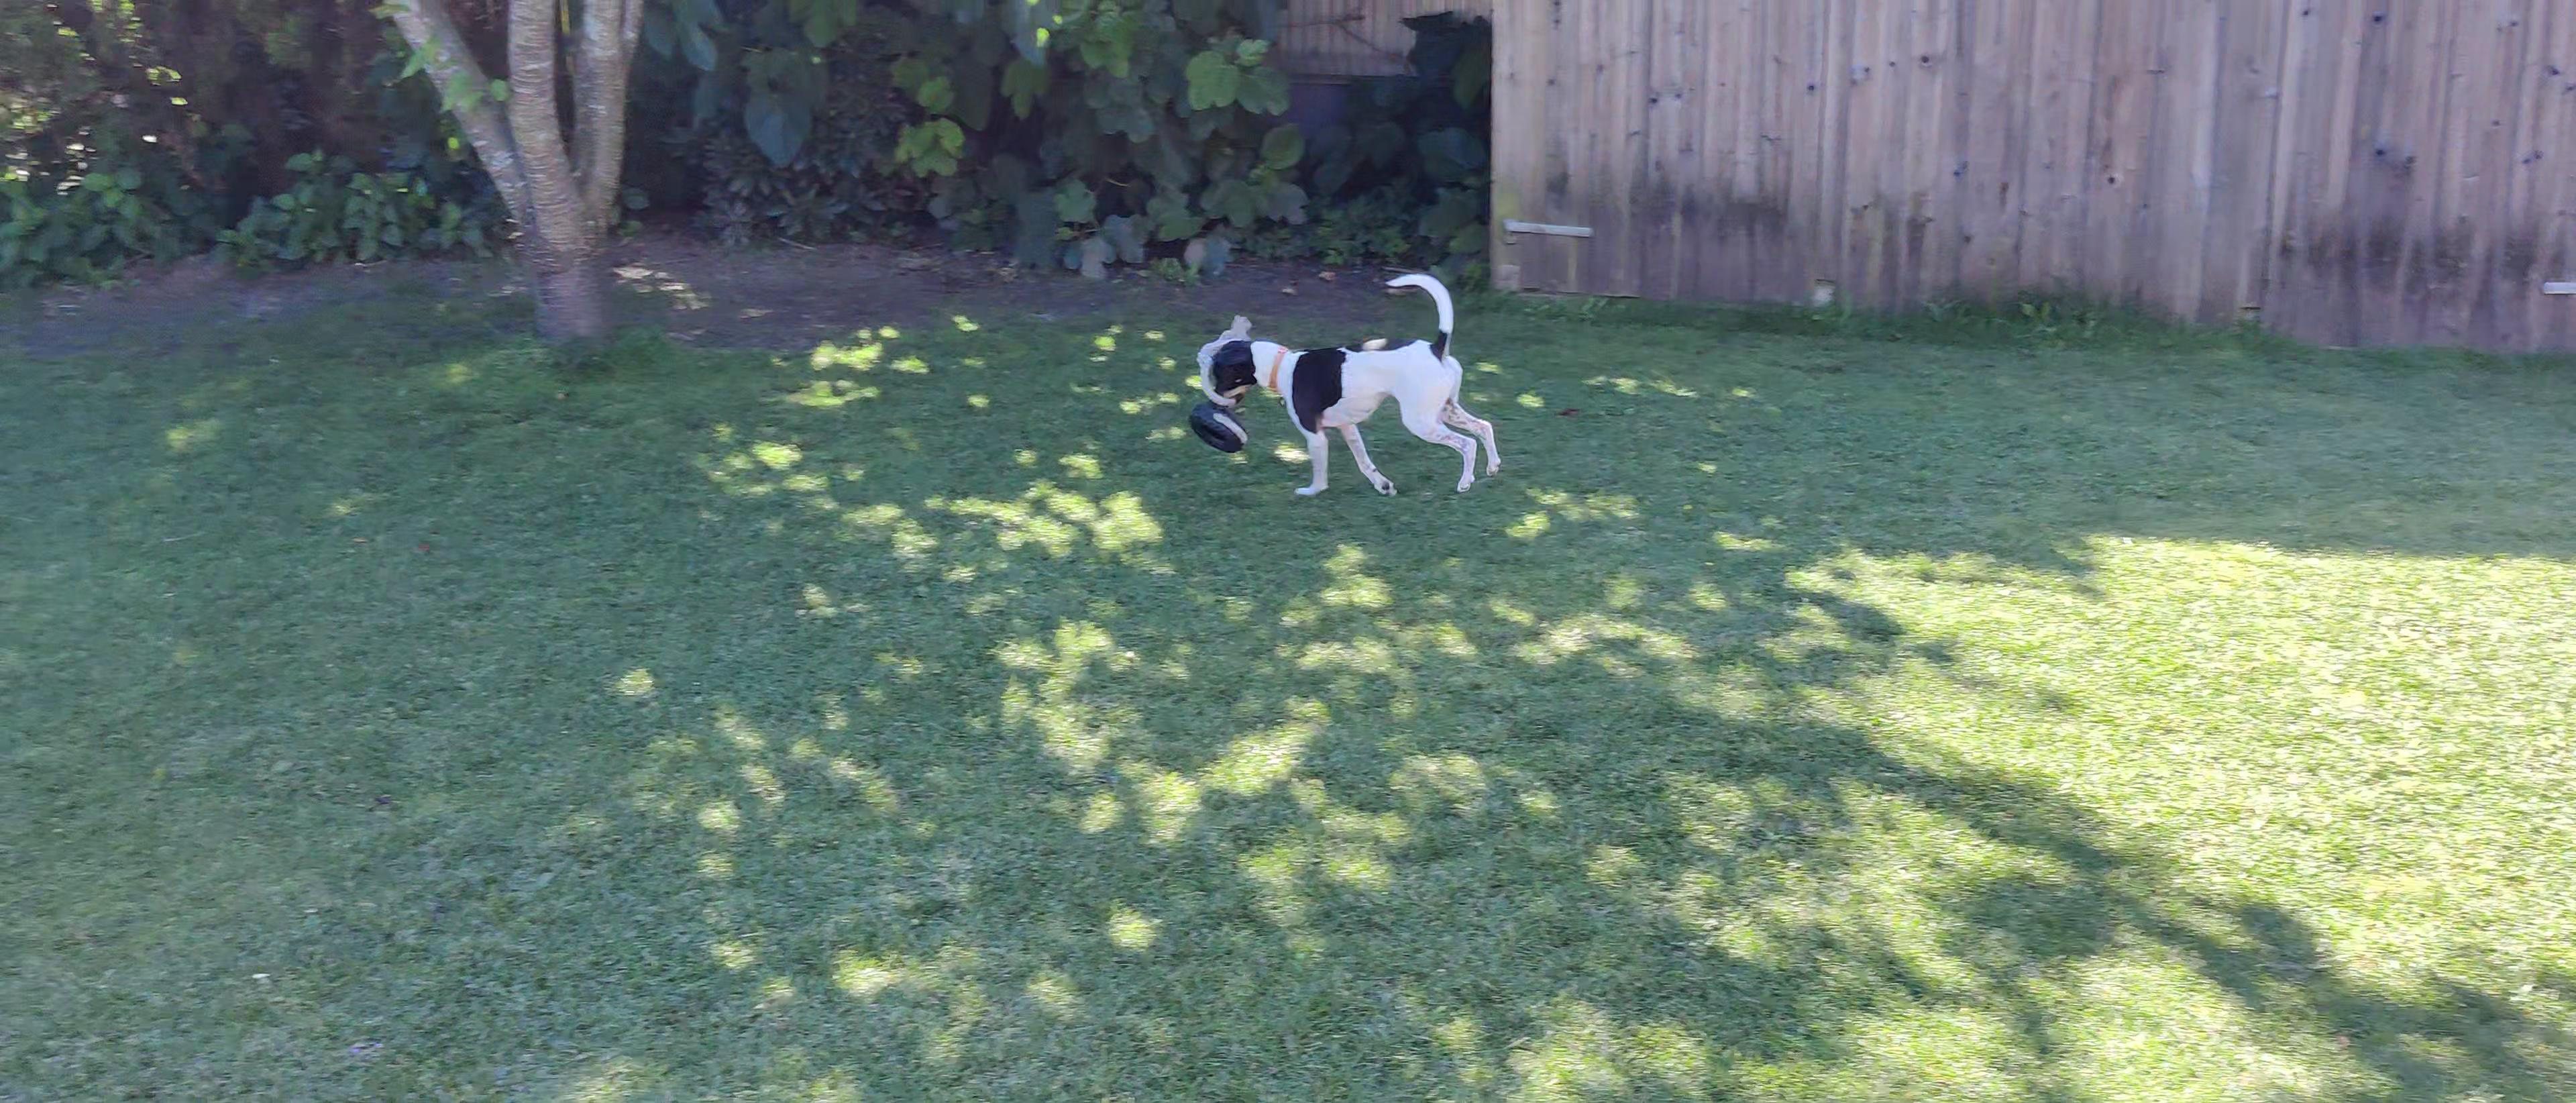Dog: (1199, 266, 1508, 501)
